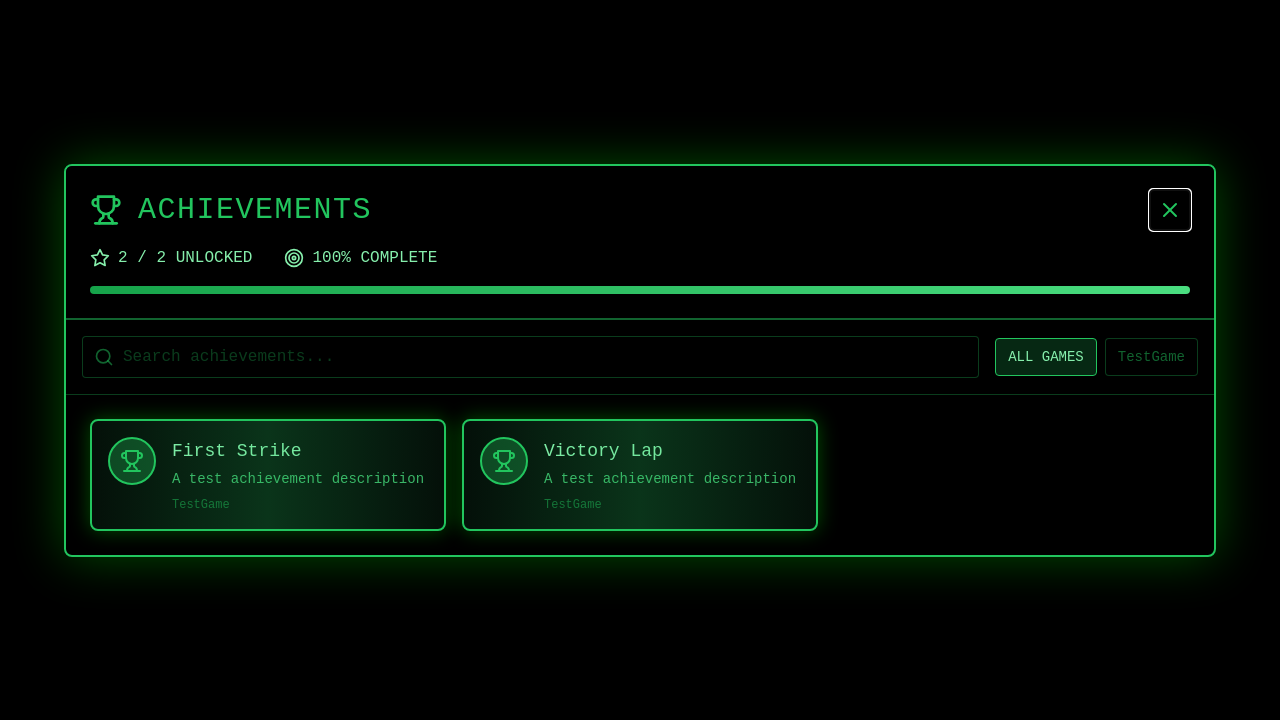
Test case: AchievementDisplay › Search Functionality › filters achievements by name
Type "First" into the field with placeholder "Search achievements..." at x=531, y=356, box [82,336,979,378]
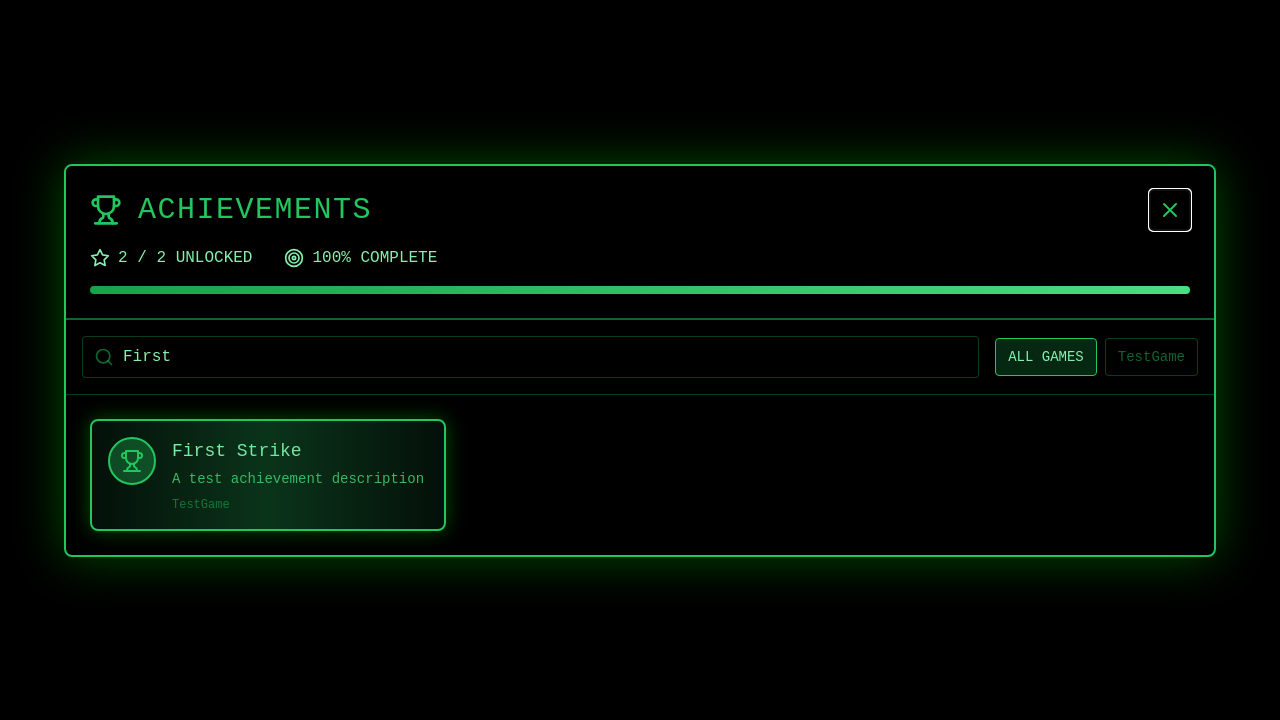
Expected: the heading "First Strike" is shown, [172,440,302,460]
Expected: the heading "Victory Lap" is gone
